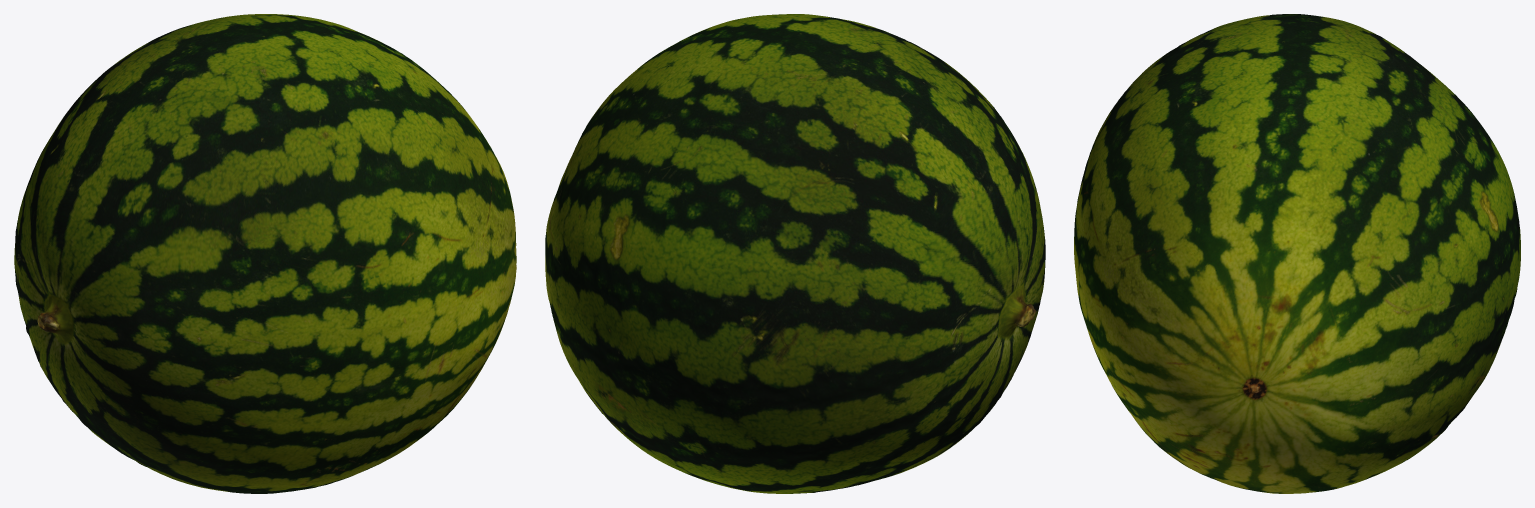
File: watermelon.glb
3 renders of one model, left to right at view 1: azimuth 30°, elevation 25°; view 2: azimuth 150°, elevation 25°; view 3: azimuth 270°, elevation 25°, orthographic. The views are drawn at different scales.
Visible parts, largest first — view 1: Object_2; view 2: Object_2; view 3: Object_2.
Boxes of the visible parts, x1,y1,x2,y2 form: Object_2: (14,14,516,493); Object_2: (545,14,1045,493); Object_2: (1074,14,1520,493).
Size of the model in its own units: 1.76 by 1.64 by 1.57.
Materials: 1 (1 with a texture image).
